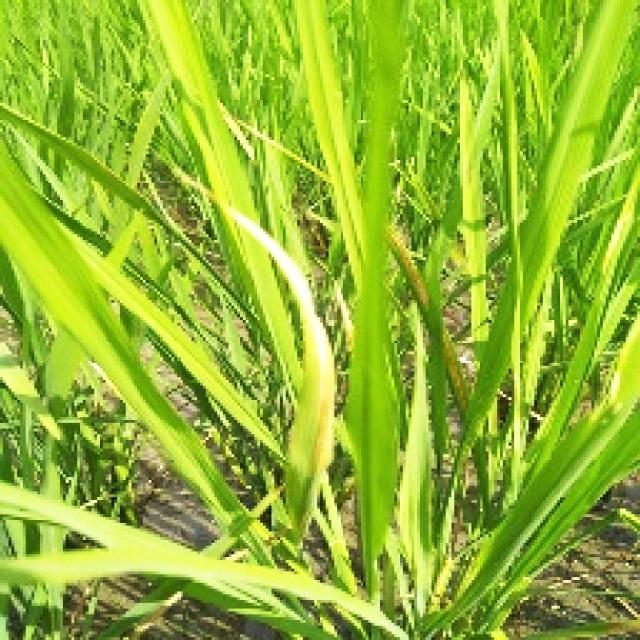unhealth: (174, 171, 337, 553)
